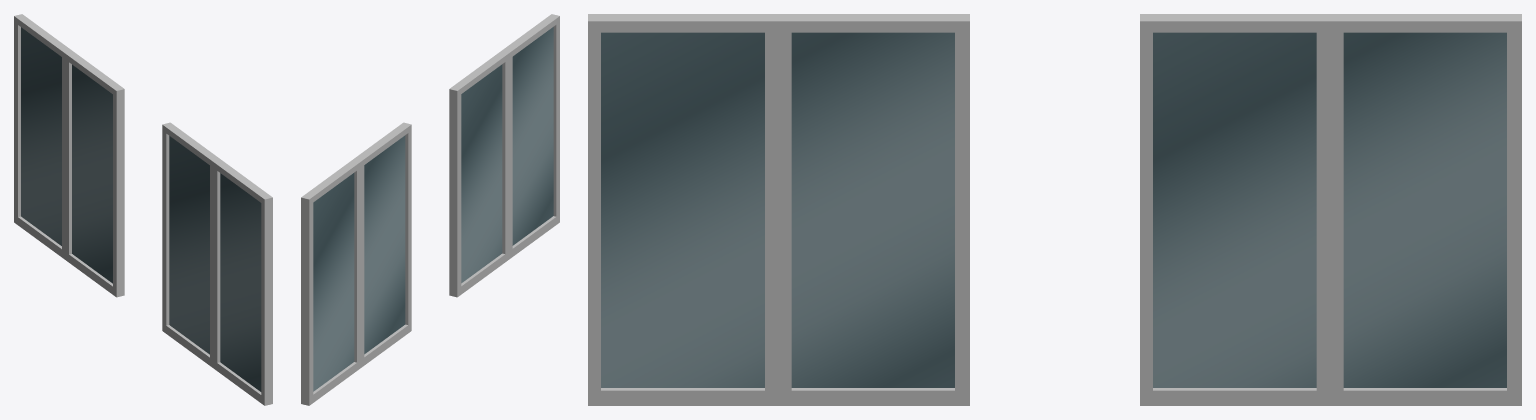
The model's file is sp_door.FBX.
3 renders of one model, left to right at view 1: azimuth 30°, elevation 25°; view 2: azimuth 150°, elevation 25°; view 3: azimuth 270°, elevation 25°, orthographic. The views are drawn at different scales.
Parts seen in each view (by area): view 1: sp_door_left (×2), sp_door_right (×2); view 2: sp_door_right (×2), sp_door_left (×2); view 3: sp_door_right (×2), sp_door_left (×2).
Part boxes in pixels (box(x1,y1,x2,y2)): sp_door_left (×2): box(65, 51, 272, 405); sp_door_right (×2): box(14, 14, 220, 367); sp_door_right (×2): box(301, 51, 508, 405); sp_door_left (×2): box(353, 14, 559, 367); sp_door_right (×2): box(779, 14, 1521, 405); sp_door_left (×2): box(588, 14, 1330, 405).
Bounding box in the file's own units: 4.11 × 217 × 98.43.
